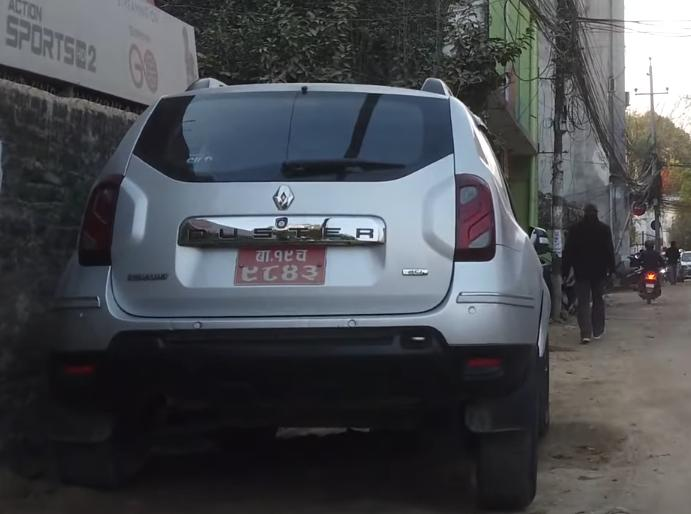car: (36, 46, 554, 506)
